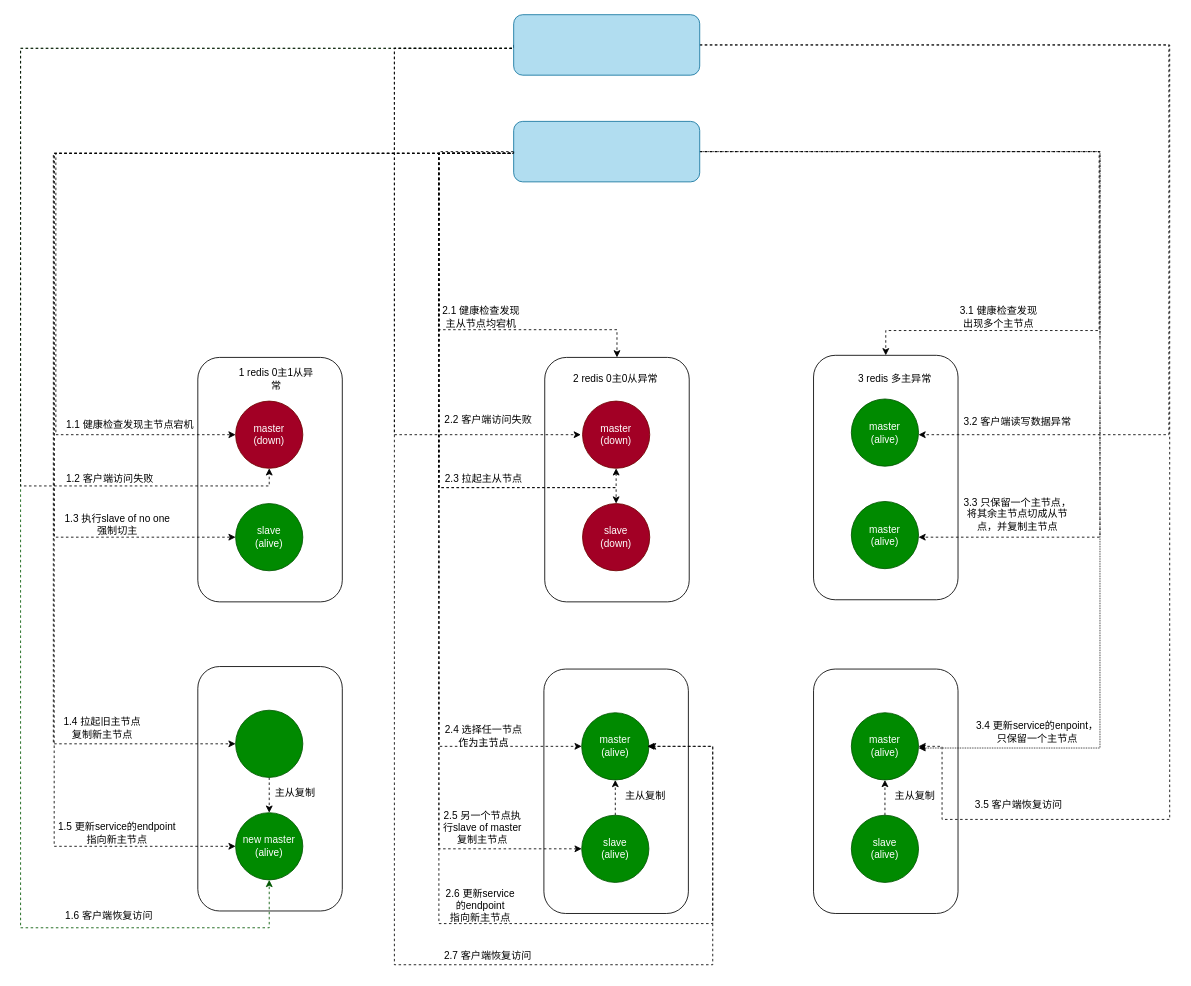
Some shapes in this 1191 by 986 pixel diagram are drawn without their labels. The shapes that lost their labels are listed below. From the top down, each one's box as (x1, y1, x2, y2) in pixels, then its label:
(513, 14, 700, 75): 客户端 通过service访问redis主节点
(513, 121, 700, 182): redis-operator
(235, 709, 303, 777): slave (old master)
